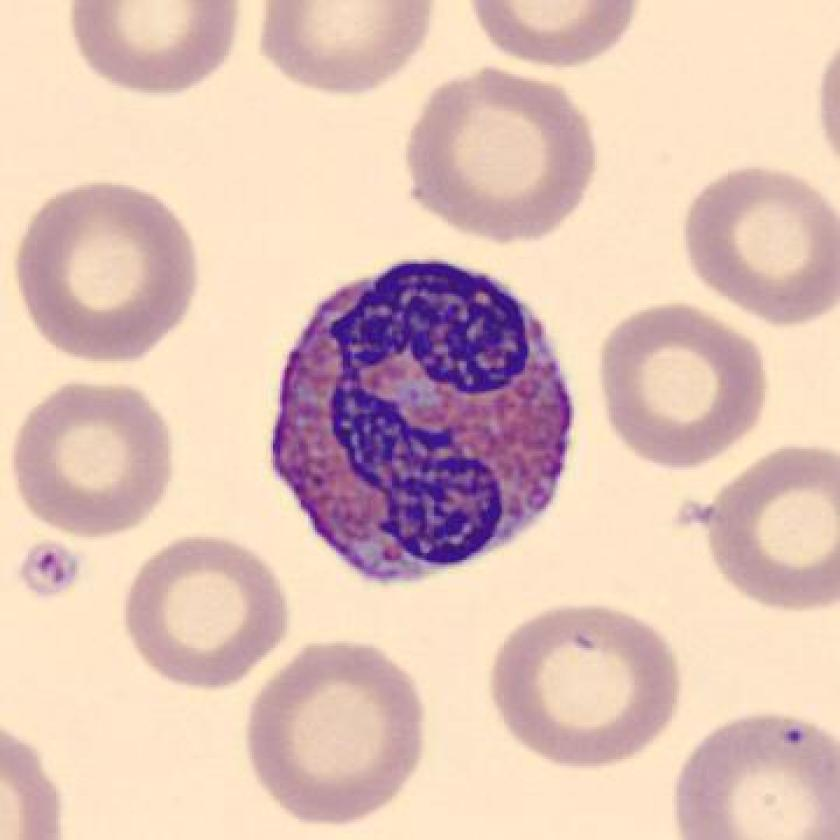eosinophil: (253, 253, 584, 596)
